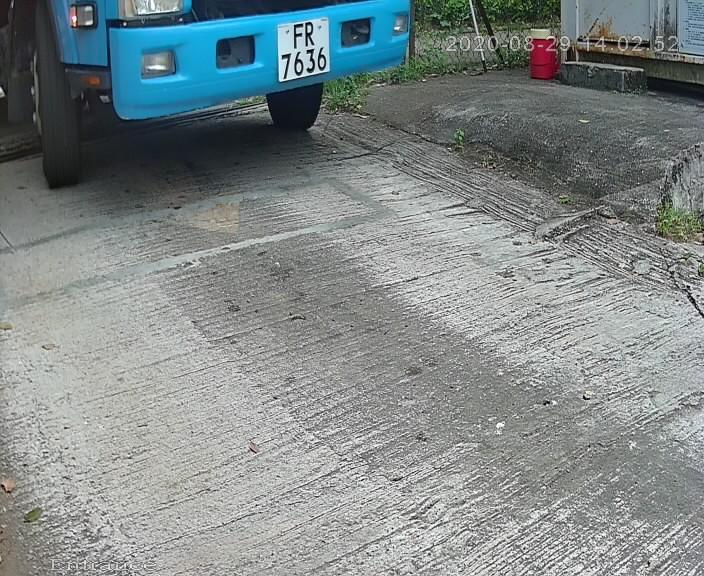Car: (1, 1, 419, 181)
License Plate: (271, 6, 343, 101)
